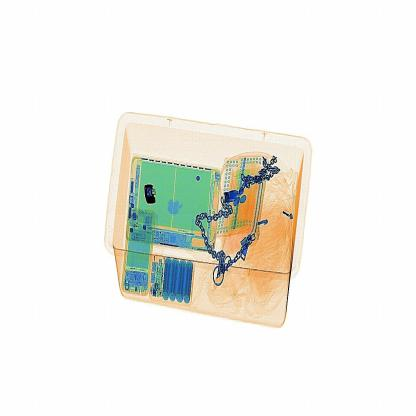pliers: (142, 182, 164, 210)
